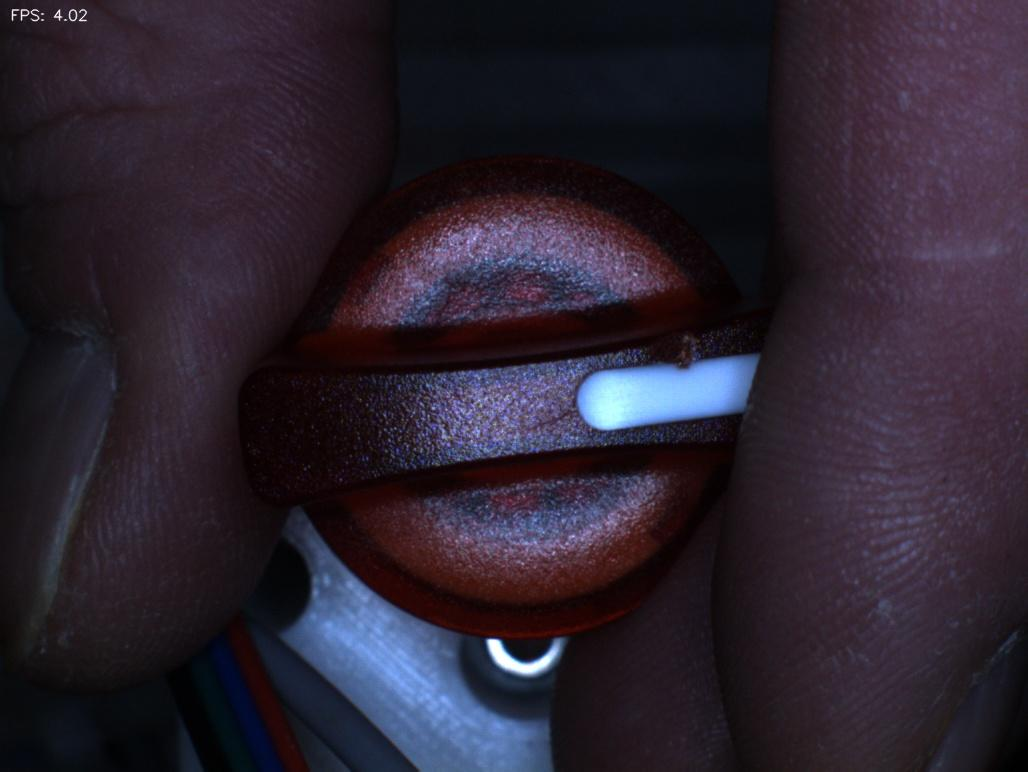Choc: (638, 292, 727, 388)
